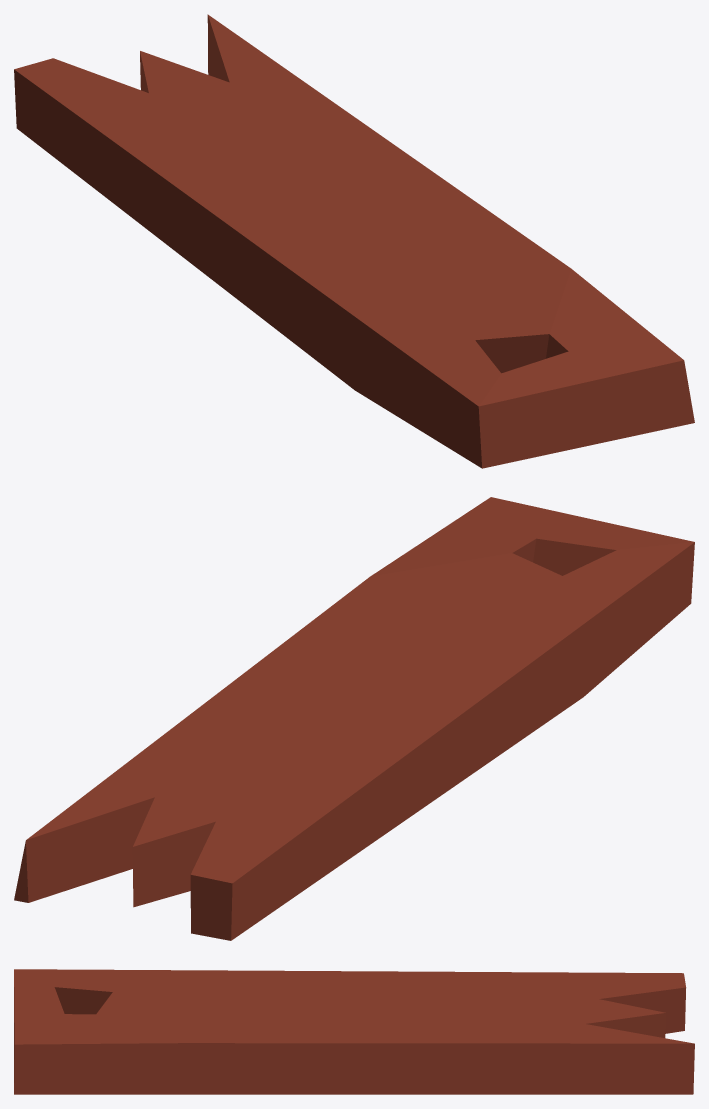
The model's file is woodboard_4a.fbx.
The picture shows the model from 3 angles, top to bottom: view 1: azimuth 30°, elevation 25°; view 2: azimuth 150°, elevation 25°; view 3: azimuth 270°, elevation 25°; orthographic projection. The views are drawn at different scales.
Visible parts, largest first — view 1: woodboard_4a; view 2: woodboard_4a; view 3: woodboard_4a.
Part boxes in pixels (x1=…): woodboard_4a: x1=14, y1=14, x2=694, y2=468; woodboard_4a: x1=14, y1=497, x2=694, y2=940; woodboard_4a: x1=14, y1=969, x2=694, y2=1094.
Size of the model in its own units: 55.3 by 16.49 by 205.
